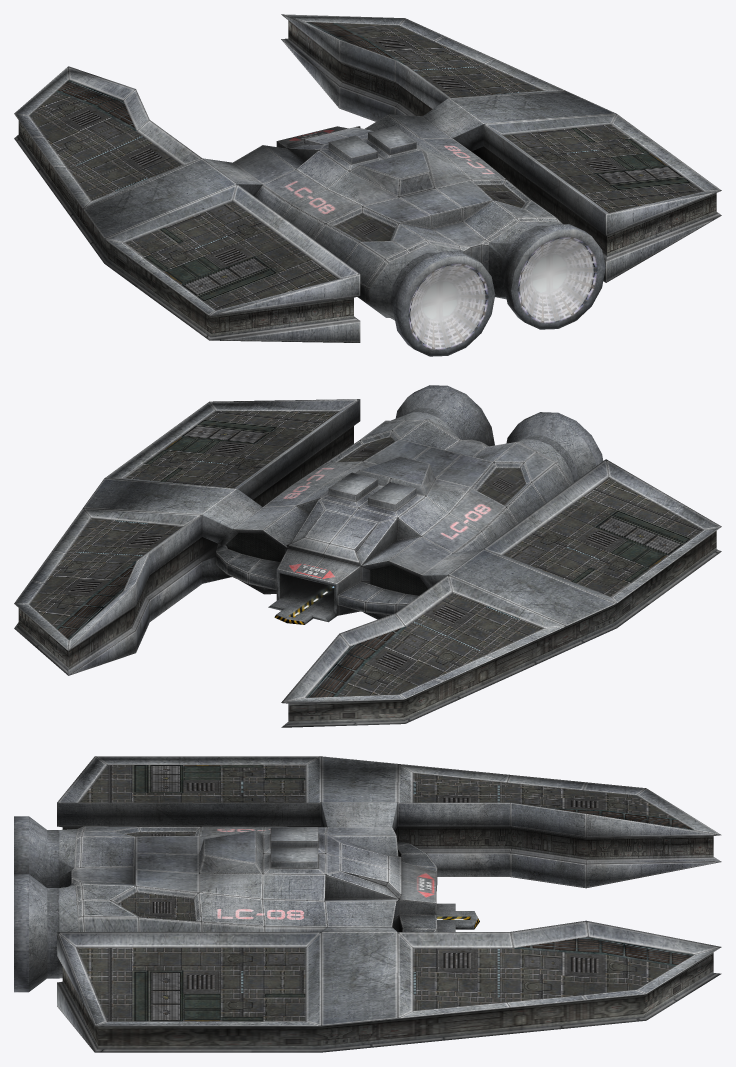
The model's file is Mothership2.fbx.
3 views of the same model, one above another, from view 1: azimuth 30°, elevation 25°; view 2: azimuth 150°, elevation 25°; view 3: azimuth 270°, elevation 25° (orthographic). The views are drawn at different scales.
Visible parts, largest first — view 1: Mesh; view 2: Mesh; view 3: Mesh.
Part boxes in pixels (bbox=[...]): Mesh: bbox=[14, 14, 721, 356]; Mesh: bbox=[14, 385, 721, 727]; Mesh: bbox=[14, 756, 721, 1052].
Bounding box in the file's own units: 76.43 × 14.98 × 84.83.
1 material, 1 textured.
